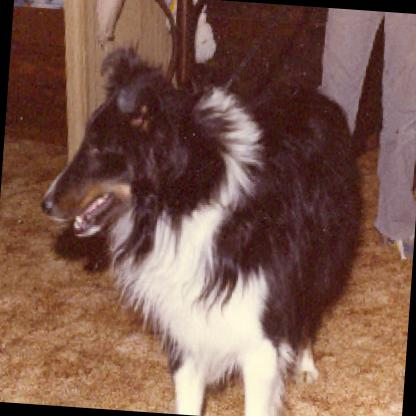Shetland_sheepdog: (19, 38, 373, 416)
